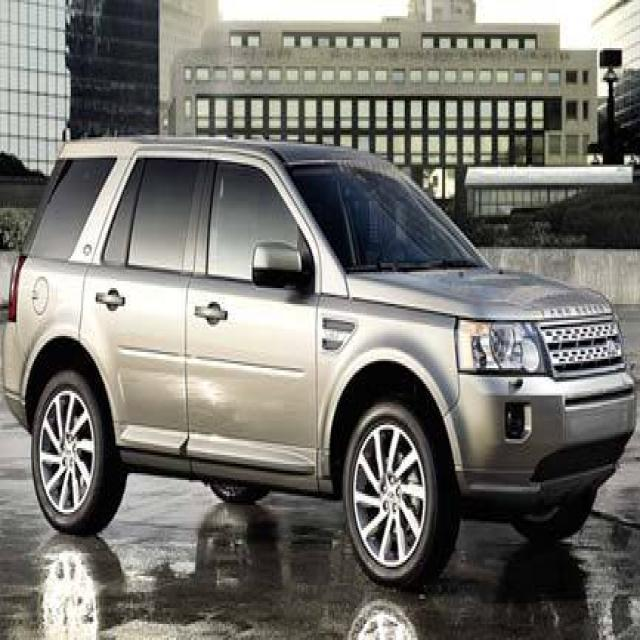car: (1, 133, 637, 593)
